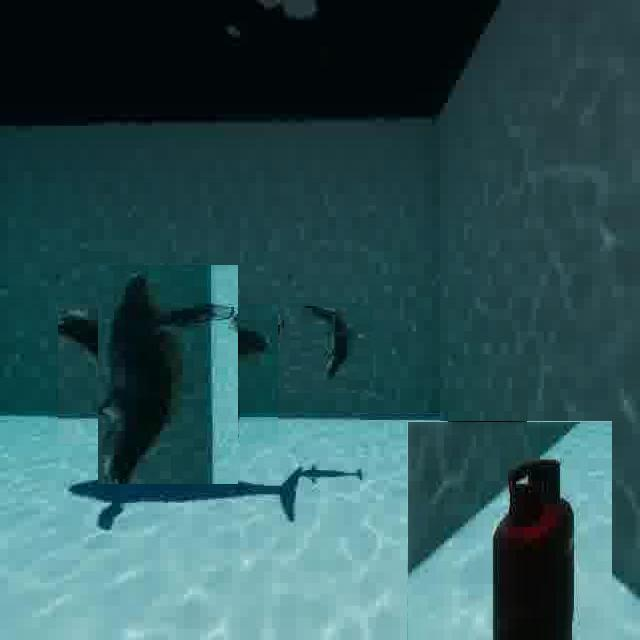Cylinder: (407, 421, 612, 640)
Whale: (78, 284, 258, 464), (284, 304, 372, 392)
